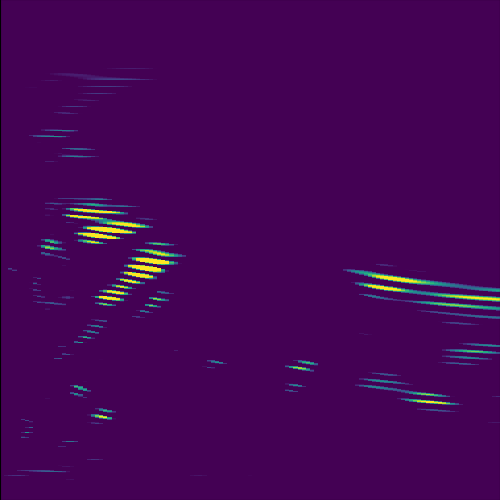semblance: (114, 244, 185, 286), (70, 221, 152, 248), (66, 204, 132, 223)
